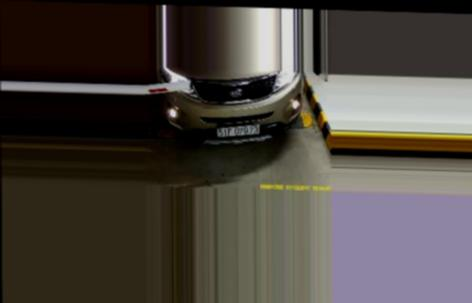License_Plate: (217, 124, 261, 140)
